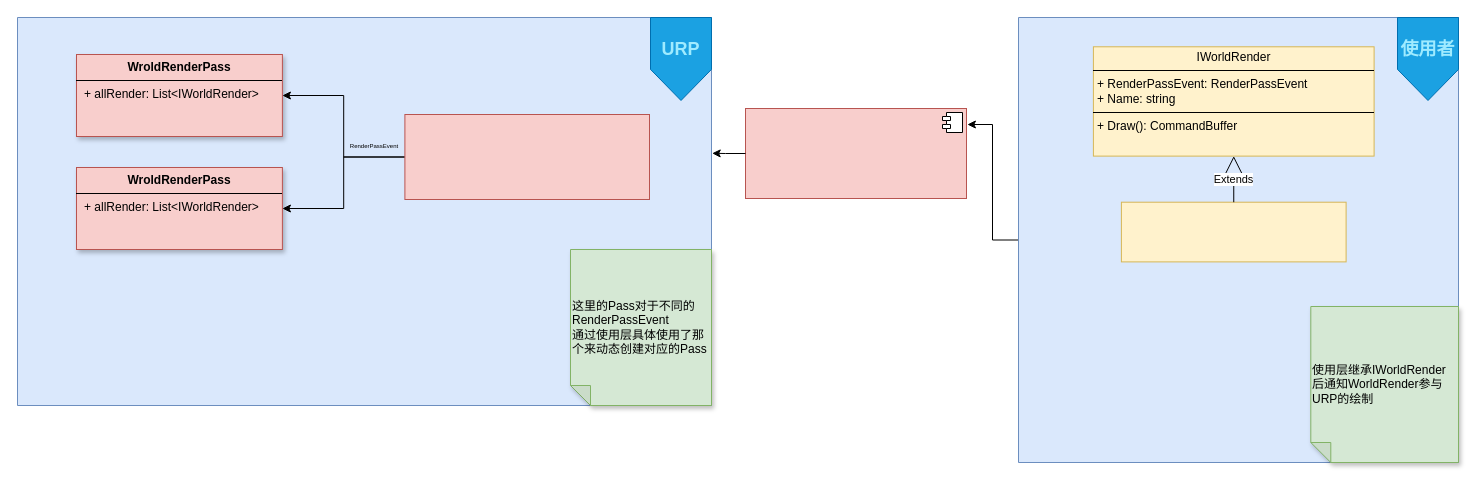
The diagram is 1482 pixels wide and 487 high, and some of its shapes have lost their labels. The shapes that lost their labels are listed below. From the top down, each one's centre as x and y in pixels, then its label:
the point at 527,157: WorldRenderFeature + renderPasses: List<WorldRenderPass>
the point at 855,153: WorldRender + allRender: List<IWorldRender>
the point at 1233,231: CustomRender
